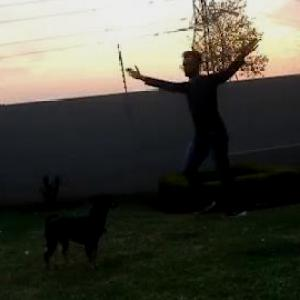takeoff: (127, 41, 256, 206)
